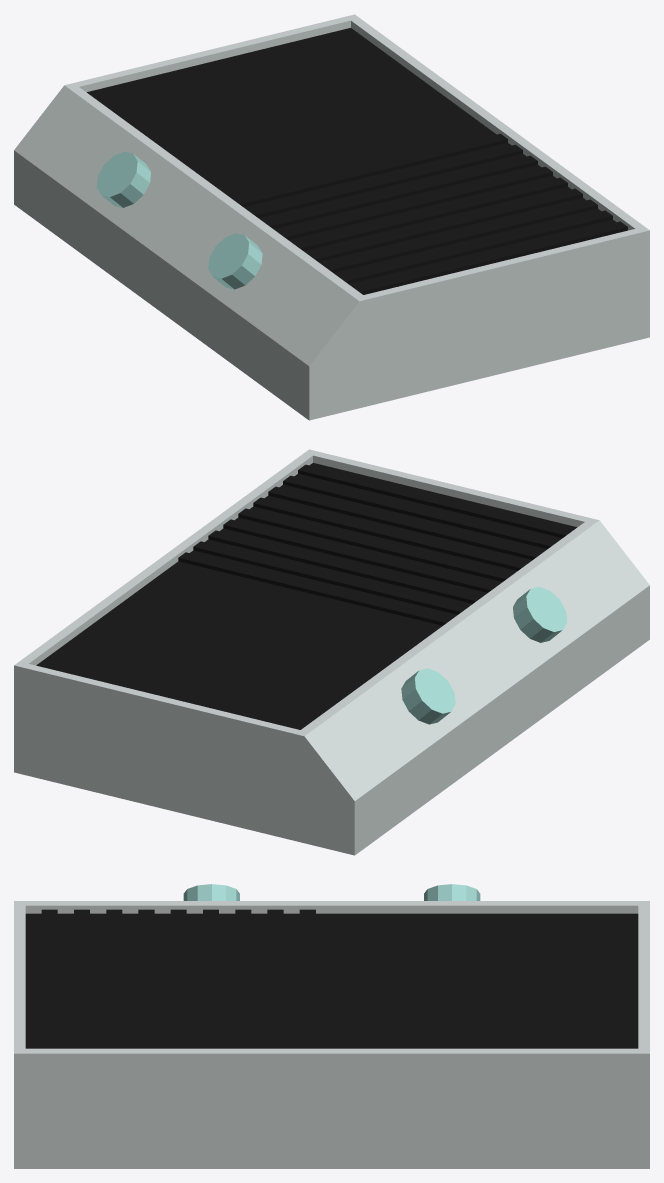
File: asset_izgara.fbx
3 views of the same model, one above another, from view 1: azimuth 30°, elevation 25°; view 2: azimuth 150°, elevation 25°; view 3: azimuth 270°, elevation 25° (orthographic). The views are drawn at different scales.
Visible parts, largest first — view 1: Cube.004, Cube.003, Circle.001; view 2: Cube.004, Cube.003, Circle.001; view 3: Cube.004, Cube.003, Circle.001.
Part boxes in pixels (x1,y1,x2,y2): Cube.004: (14, 14, 649, 420); Cube.003: (87, 28, 627, 294); Circle.001: (96, 151, 262, 289); Cube.004: (14, 449, 649, 855); Cube.003: (36, 463, 576, 729); Circle.001: (401, 586, 567, 724); Cube.004: (14, 901, 649, 1168); Cube.003: (25, 909, 638, 1048); Circle.001: (183, 884, 480, 900).
Size of the model in its own units: 60.83 by 18.74 by 90.
Materials: 3 (3 with a texture image).
